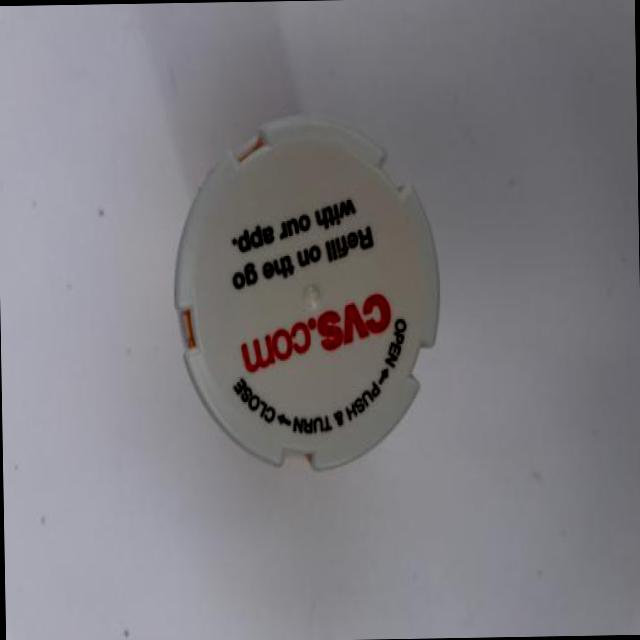Trash: (174, 112, 445, 476)
